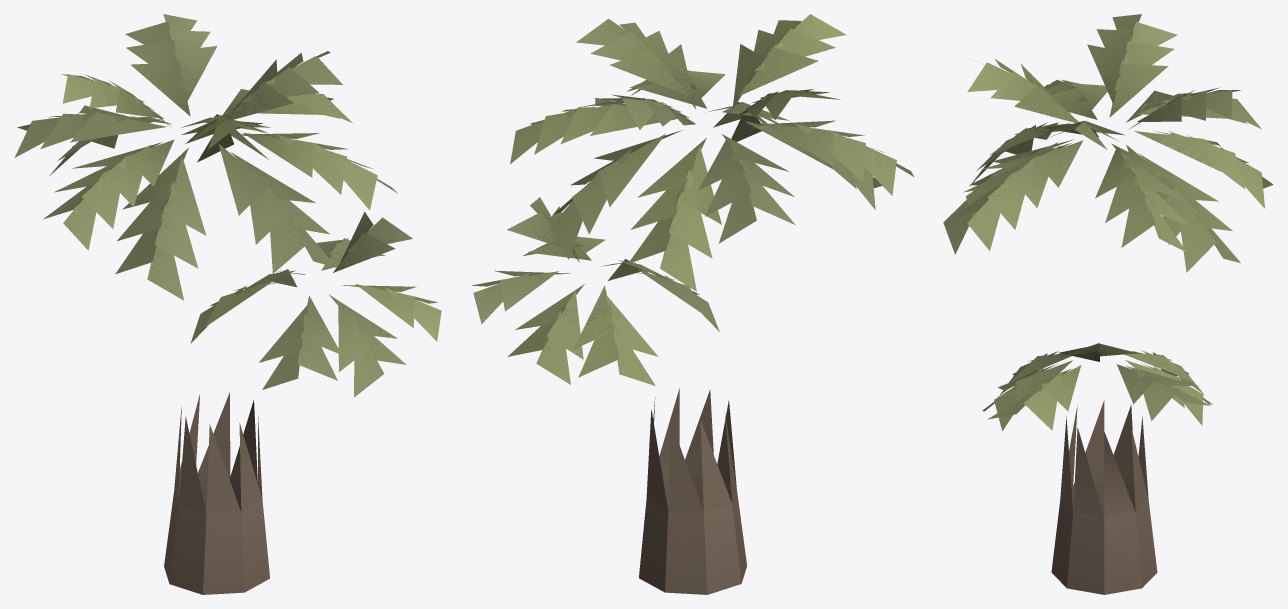
The model's file is williamsonia.lod.glb.
3 renders of one model, left to right at view 1: azimuth 30°, elevation 25°; view 2: azimuth 150°, elevation 25°; view 3: azimuth 270°, elevation 25°, orthographic. The views are drawn at different scales.
Parts seen in each view (by area): view 1: williamsonia.001; view 2: williamsonia.001; view 3: williamsonia.001.
Boxes of the visible parts, x1,y1,x2,y2 form: williamsonia.001: (14,14,441,594); williamsonia.001: (471,14,914,594); williamsonia.001: (943,14,1273,594).
Size of the model in its own units: 3.11 by 4.04 by 2.43.
